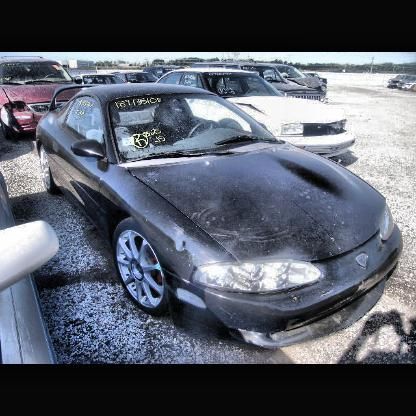Eagle Talon Hatchback 1998: (38, 84, 403, 351)
